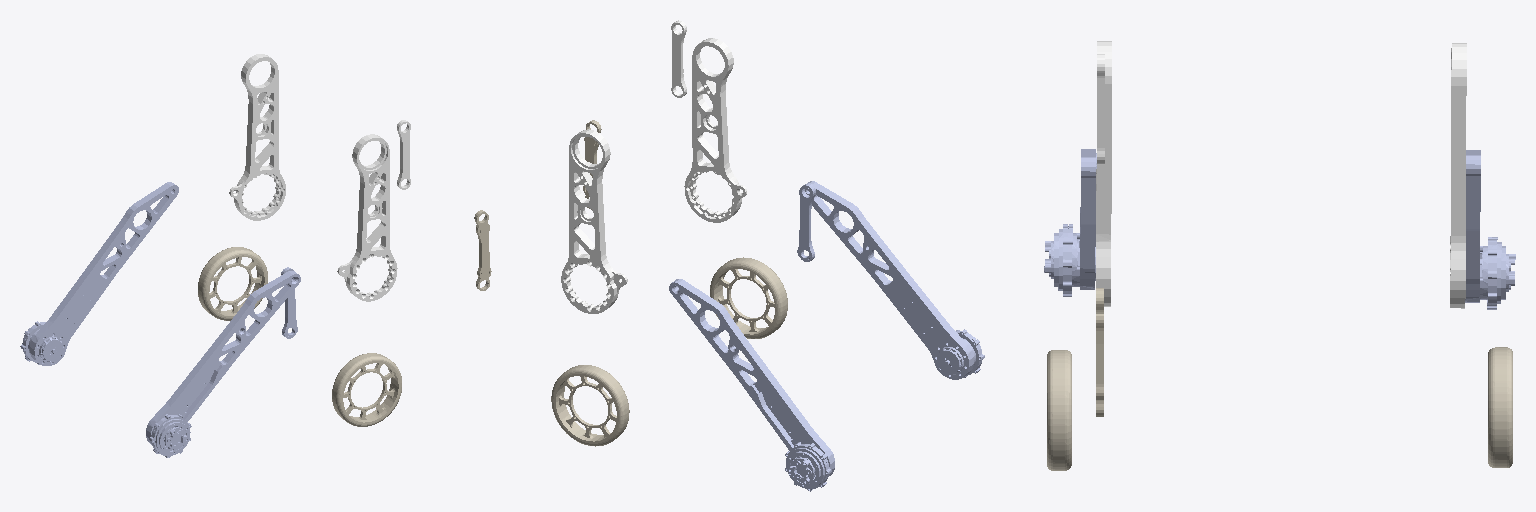
The robot description file, URDF, robot "Wheel_leg_V1":
<?xml version='1.0' encoding='utf-8'?>
<robot name="Wheel_leg_V1">
  <link name="base_link">
    <inertial>
      <origin xyz="-0.005 0.0003 -0.053" rpy="0 -0 1.57079632679" />
      <mass value="10.8" />
      <inertia ixx="0.126" ixy="0.000264" ixz="-0.00049" iyy="0.178" iyz="0.004123" izz="0.255" />
    </inertial>
    <visual>
      <origin xyz="0 0 0" rpy="0 -0 1.57079632679" />
      <geometry>
        <mesh filename="../meshes/base_link.STL" />
      </geometry>
      <material name="">
        <color rgba="0.79216 0.81961 0.93333 1" />
      </material>
    </visual>
    <collision>
      <origin xyz="0 0 0" rpy="0 -0 1.57079632679" />
      <geometry>
        <mesh filename="../meshes/base_link.STL" />
      </geometry>
    </collision>
  </link>
  <link name="L_link1">
    <inertial>
      <origin xyz="0.062 -0.006 -0.003" rpy="0 0 0" />
      <mass value="0.326" />
      <inertia ixx="0.000518" ixy="0.00073" ixz="-8.1E-05" iyy="0.003183" iyz="-1.8E-05" izz="0.003674" />
    </inertial>
    <visual>
      <origin xyz="0 0 0" rpy="0 0 0" />
      <geometry>
        <mesh filename="../meshes/L_link1.STL" />
      </geometry>
      <material name="">
        <color rgba="1 1 1 1" />
      </material>
    </visual>
    <collision>
      <origin xyz="0 0 0" rpy="0 0 0" />
      <geometry>
        <mesh filename="../meshes/L_link1.STL" />
      </geometry>
    </collision>
  </link>
  <joint name="L_joint1" type="continuous">
    <origin xyz="0 0.183798094346 -0.000836967642744" rpy="1.57535002938 -0 -3.14159265359" />
    <parent link="base_link" />
    <child link="L_link1" />
    <axis xyz="0 0 -1" />
    <limit lower="-3.14" upper="3.14" effort="40" velocity="17" />
  </joint>
  <link name="L_link2">
    <inertial>
      <origin xyz="0.15963 8.3413E-05 0.011927" rpy="0 0 0" />
      <mass value="0.45" />
      <inertia ixx="0.000167" ixy="8.4E-05" ixz="0.000191" iyy="0.0049" iyz="0" izz="0.00496" />
    </inertial>
    <visual>
      <origin xyz="0 0 0" rpy="0 0 0" />
      <geometry>
        <mesh filename="../meshes/L_link2.STL" />
      </geometry>
      <material name="">
        <color rgba="0.79216 0.81961 0.93333 1" />
      </material>
    </visual>
    <collision>
      <origin xyz="0 0 0" rpy="0 0 0" />
      <geometry>
        <mesh filename="../meshes/L_link2.STL" />
      </geometry>
    </collision>
  </link>
  <joint name="L_joint2" type="continuous">
    <origin xyz="0.21 0 0" rpy="0 0 -2.404" />
    <parent link="L_link1" />
    <child link="L_link2" />
    <axis xyz="-0 -0 -1" />
    <limit lower="-3.14" upper="3.14" effort="40" velocity="17" />
  </joint>
  <link name="L_link3">
    <inertial>
      <origin xyz="0 0 0.020472" rpy="0 0 0" />
      <mass value="0.2" />
      <inertia ixx="0.000296" ixy="0" ixz="0" iyy="0.000296" iyz="0" izz="0.000575" />
    </inertial>
    <visual>
      <origin xyz="0 0 0" rpy="0 0 0" />
      <geometry>
        <mesh filename="../meshes/L_link3.STL" />
      </geometry>
      <material name="">
        <color rgba="0.84314 0.81569 0.75294 1" />
      </material>
    </visual>
    <collision><origin xyz="0 0 0.0203500008211" rpy="0 0 0" /><geometry><cylinder radius="0.0600000032506" length="0.0250000003725" /></geometry></collision></link>
  <joint name="L_joint3" type="continuous">
    <origin xyz="0.25 0 0.015" rpy="0 0 -1.5708" />
    <parent link="L_link2" />
    <child link="L_link3" />
    <axis xyz="0 0 1" />
    <limit lower="-3.14" upper="3.14" effort="5" velocity="60" />
  </joint>
  <link name="R_link1">
    <inertial>
      <origin xyz="0.062 -0.006 0.003" rpy="0 0 0" />
      <mass value="0.326" />
      <inertia ixx="0.000518" ixy="0.00073" ixz="8.1E-05" iyy="0.003183" iyz="1.8E-05" izz="0.003674" />
    </inertial>
    <visual>
      <origin xyz="0 0 0" rpy="0 0 0" />
      <geometry>
        <mesh filename="../meshes/R_link1.STL" />
      </geometry>
      <material name="">
        <color rgba="1 1 1 1" />
      </material>
    </visual>
    <collision>
      <origin xyz="0 0 0" rpy="0 0 0" />
      <geometry>
        <mesh filename="../meshes/R_link1.STL" />
      </geometry>
    </collision>
  </link>
  <joint name="R_joint1" type="continuous">
    <origin xyz="0 -0.182798104714 0.000832413955891" rpy="1.57535002938 -0 -3.14159265359" />
    <parent link="base_link" />
    <child link="R_link1" />
    <axis xyz="-0 -0 -1" />
    <limit lower="-3.14" upper="3.14" effort="40" velocity="17" />
  </joint>
  <link name="R_link2">
    <inertial>
      <origin xyz="0.15963 8.3412E-05 -0.011927" rpy="0 0 0" />
      <mass value="0.45" />
      <inertia ixx="0.000167" ixy="8.4E-05" ixz="-0.000192" iyy="0.0049" iyz="0" izz="0.00496" />
    </inertial>
    <visual>
      <origin xyz="0 0 0" rpy="0 0 0" />
      <geometry>
        <mesh filename="../meshes/R_link2.STL" />
      </geometry>
      <material name="">
        <color rgba="0.79216 0.81961 0.93333 1" />
      </material>
    </visual>
    <collision>
      <origin xyz="0 0 0" rpy="0 0 0" />
      <geometry>
        <mesh filename="../meshes/R_link2.STL" />
      </geometry>
    </collision>
  </link>
  <joint name="R_joint2" type="continuous">
    <origin xyz="0.21 0 0" rpy="0 0 -2.3573" />
    <parent link="R_link1" />
    <child link="R_link2" />
    <axis xyz="0 0 -1" />
    <limit lower="-3.14" upper="3.14" effort="40" velocity="17" />
  </joint>
  <link name="R_link3">
    <inertial>
      <origin xyz="0 0 -0.020472" rpy="0 0 0" />
      <mass value="0.2" />
      <inertia ixx="0.000296" ixy="0" ixz="0" iyy="0.000296" iyz="0" izz="0.000575" />
    </inertial>
    <visual>
      <origin xyz="0 0 0" rpy="0 0 0" />
      <geometry>
        <mesh filename="../meshes/R_link3.STL" />
      </geometry>
      <material name="">
        <color rgba="0.84314 0.81569 0.75294 1" />
      </material>
    </visual>
    <collision><origin xyz="0 0 -0.0203500008211" rpy="0 0 0" /><geometry><cylinder radius="0.0600000031546" length="0.0250000003725" /></geometry></collision></link>
  <joint name="R_joint3" type="continuous">
    <origin xyz="0.249999999999996 0 -0.0150000000000006" rpy="0 0 3.14159265358979" />
    <parent link="R_link2" />
    <child link="R_link3" />
    <axis xyz="-0 -0 1" />
    <limit lower="-3.14" upper="3.14" effort="5" velocity="60" />
  </joint>
</robot>

--- Facts derived from the render (not from the file) ---
The picture shows the robot from 3 angles, left to right: view 1: azimuth 30°, elevation 25°; view 2: azimuth 150°, elevation 25°; view 3: azimuth 270°, elevation 25°; orthographic projection.
Robot: Wheel_leg_V1 — 7 links, 6 joints (6 continuous); root link base_link; default pose: every joint at zero.
Links seen in each view (by area): view 1: L_link2, R_link2, L_link1, R_link1, R_link3, L_link3; view 2: L_link2, R_link2, L_link1, R_link1, L_link3, R_link3; view 3: L_link1, L_link2, R_link2, L_link3, R_link3, R_link1.
Link boxes in pixels (bbox=[...]): L_link2: bbox=[20, 182, 297, 365]; R_link2: bbox=[146, 271, 300, 457]; L_link1: bbox=[229, 54, 410, 220]; R_link1: bbox=[337, 120, 408, 301]; R_link3: bbox=[332, 223, 489, 426]; L_link3: bbox=[198, 210, 491, 320]; L_link2: bbox=[669, 183, 834, 491]; R_link2: bbox=[799, 181, 984, 379]; L_link1: bbox=[561, 20, 686, 313]; R_link1: bbox=[673, 21, 746, 222]; L_link3: bbox=[551, 120, 629, 446]; R_link3: bbox=[584, 137, 787, 338]; L_link1: bbox=[1097, 43, 1466, 308]; L_link2: bbox=[1096, 150, 1515, 309]; R_link2: bbox=[1044, 149, 1096, 296]; L_link3: bbox=[1096, 288, 1512, 467]; R_link3: bbox=[1047, 314, 1103, 470]; R_link1: bbox=[1096, 41, 1111, 306].
Bounding box of the posed robot: 0.6379 × 0.4673 × 0.4912 m (x, y, z).
6 mesh visuals loaded from 7 distinct referenced files (6 binary STL); not drawn: 1 (file found but could not be loaded).
